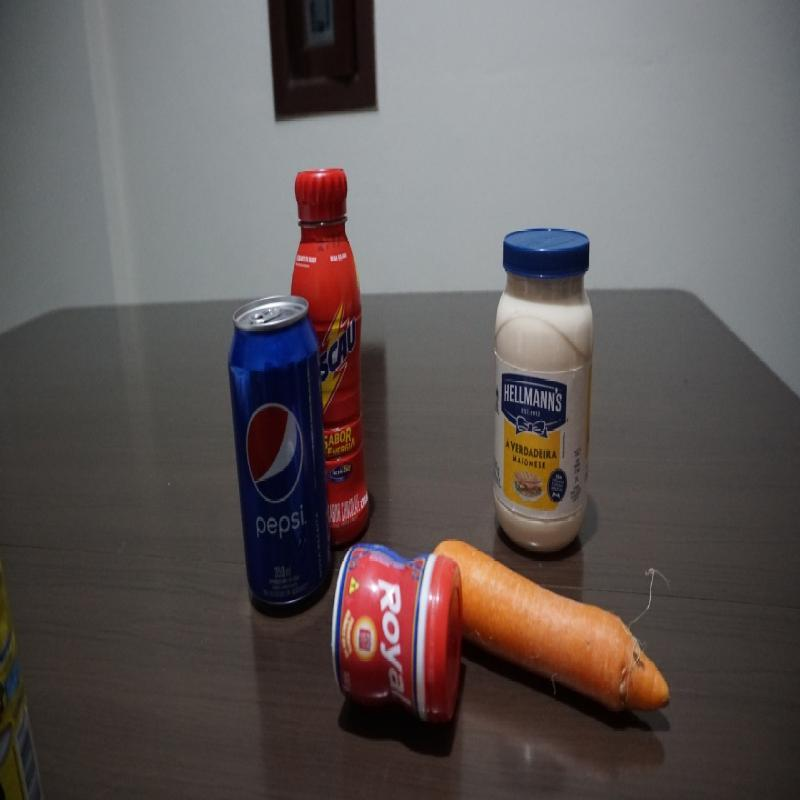Carrot: (442, 534, 673, 718)
Chocolate Milk: (291, 170, 375, 541)
Mayonnaise: (495, 225, 586, 546)
Soda can: (229, 300, 329, 626)
Yeast: (332, 535, 463, 713)
